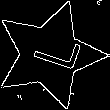L_W: (20, 32, 79, 78)
